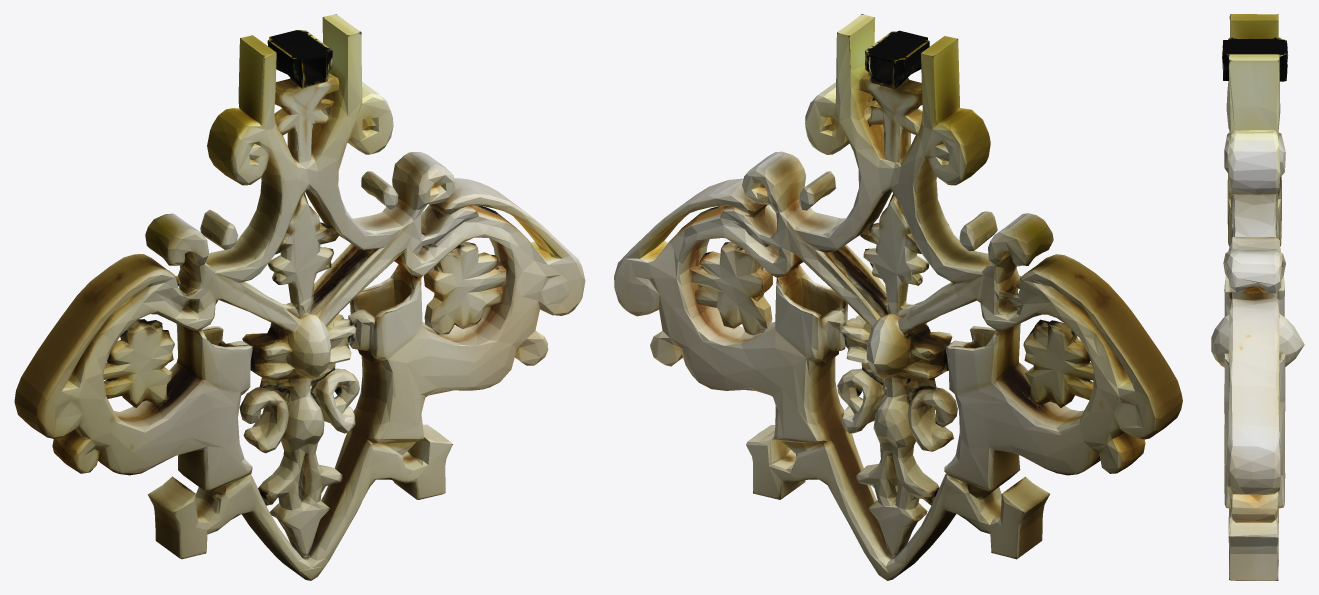
Rendered from bone-carved-pendant-art-deco.jpeg.glb.
3 renders of one model, left to right at view 1: azimuth 30°, elevation 25°; view 2: azimuth 150°, elevation 25°; view 3: azimuth 270°, elevation 25°, orthographic.
Parts seen in each view (by area): view 1: world; view 2: world; view 3: world.
Boxes of the visible parts, x1=… form: world: x1=14, y1=14, x2=585, y2=580; world: x1=614, y1=14, x2=1182, y2=580; world: x1=1211, y1=14, x2=1304, y2=580.
Size of the model in its own units: 0.9989 by 0.9363 by 0.1482.
1 material, 1 textured.
